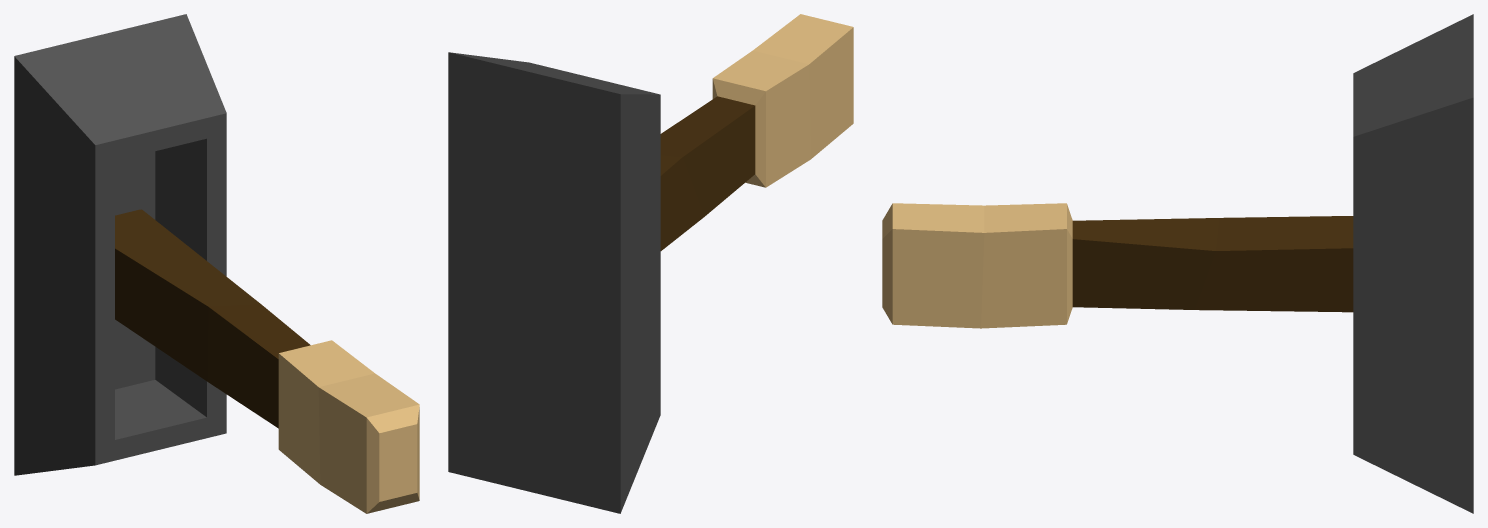
The model's file is Lever.fbx.
3 renders of one model, left to right at view 1: azimuth 30°, elevation 25°; view 2: azimuth 150°, elevation 25°; view 3: azimuth 270°, elevation 25°, orthographic.
Parts seen in each view (by area): view 1: Lever_Base, Lever_Stick; view 2: Lever_Base, Lever_Stick; view 3: Lever_Base, Lever_Stick.
Part boxes in pixels (x1,y1,x2,y2): Lever_Base: (14, 14, 226, 475); Lever_Stick: (115, 209, 419, 513); Lever_Base: (448, 52, 660, 513); Lever_Stick: (660, 14, 853, 250); Lever_Base: (1353, 14, 1473, 513); Lever_Stick: (882, 203, 1353, 328).
Size of the model in its own units: 26.71 by 62.17 by 79.99.
